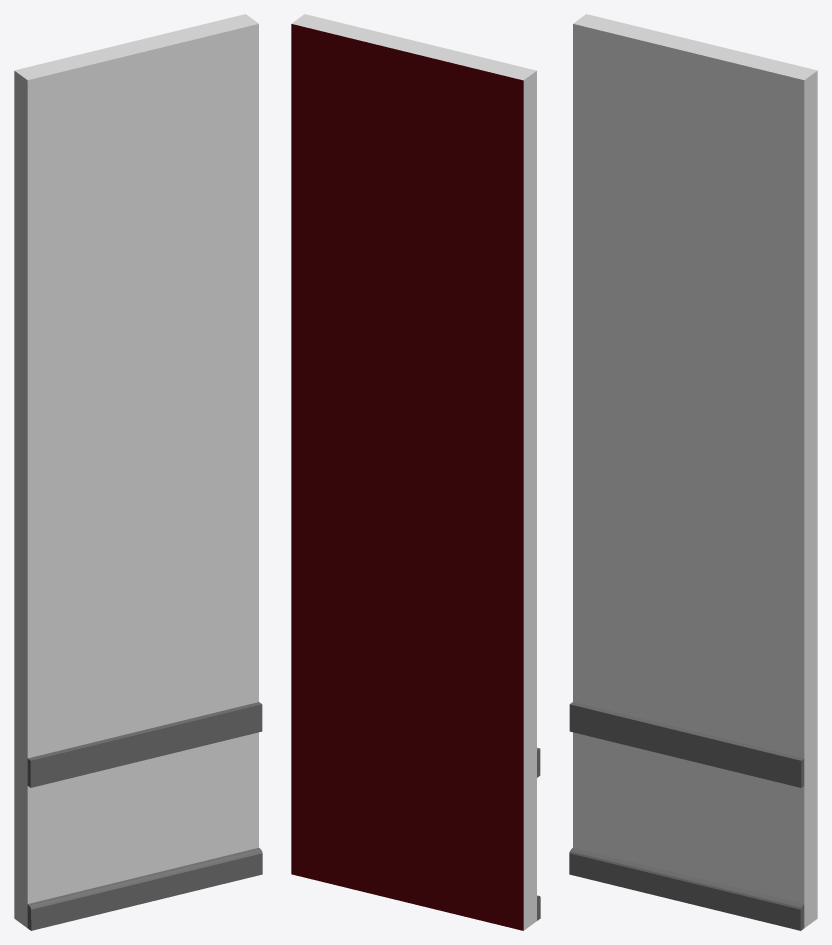
The model's file is WandAußen.glb.
The picture shows the model from 3 angles, left to right: view 1: azimuth 30°, elevation 25°; view 2: azimuth 150°, elevation 25°; view 3: azimuth 330°, elevation 25°; orthographic projection.
Parts seen in each view (by area): view 1: Wand 1 * 4; view 2: Wand 1 * 4; view 3: Wand 1 * 4.
Boxes of the visible parts, x1,y1,x2,y2 form: Wand 1 * 4: (14, 14, 262, 930); Wand 1 * 4: (291, 14, 540, 930); Wand 1 * 4: (569, 14, 817, 930).
Bounding box in the file's own units: 1 × 3.5 × 0.1269.
